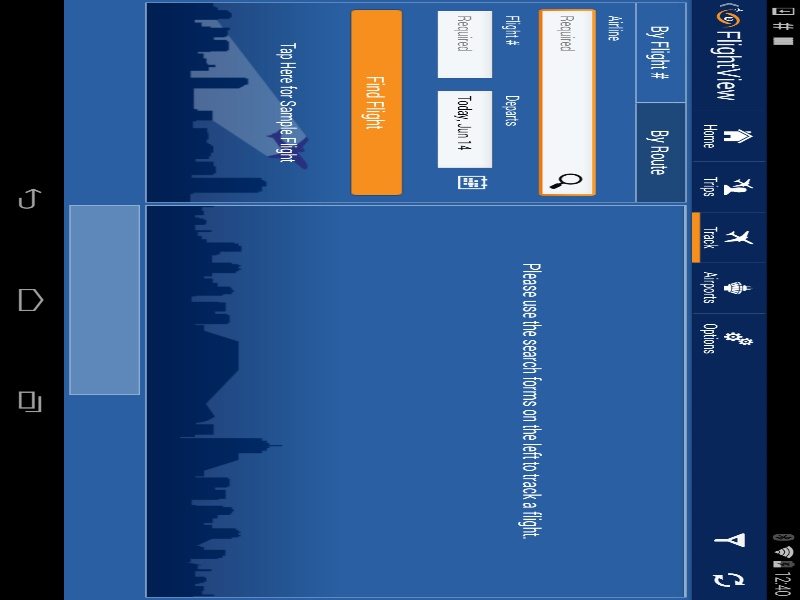Button: (20, 185, 417, 210)
Input: (20, 95, 417, 125), (190, 143, 361, 173), (20, 143, 170, 173)
